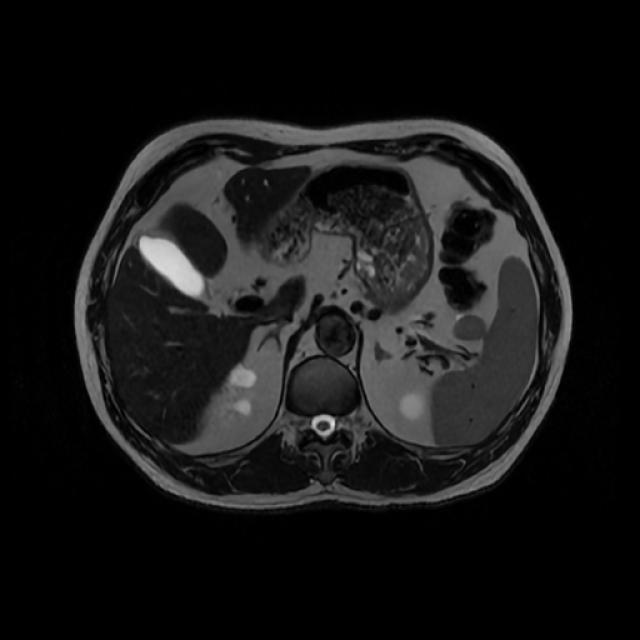sag: (231, 366, 260, 388), (229, 401, 251, 414)
sol: (402, 395, 429, 418)
